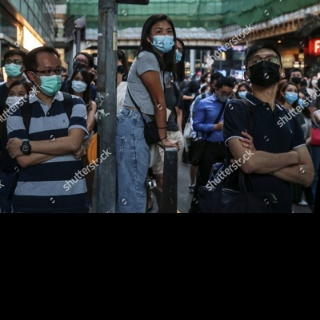with_mask: (248, 52, 281, 88), (36, 64, 64, 96), (151, 26, 174, 52), (6, 90, 27, 108), (4, 59, 24, 77), (72, 76, 88, 93), (284, 88, 299, 105), (73, 57, 89, 72), (217, 89, 234, 103), (173, 44, 184, 64), (292, 73, 304, 85), (238, 87, 249, 99), (298, 96, 308, 109)
